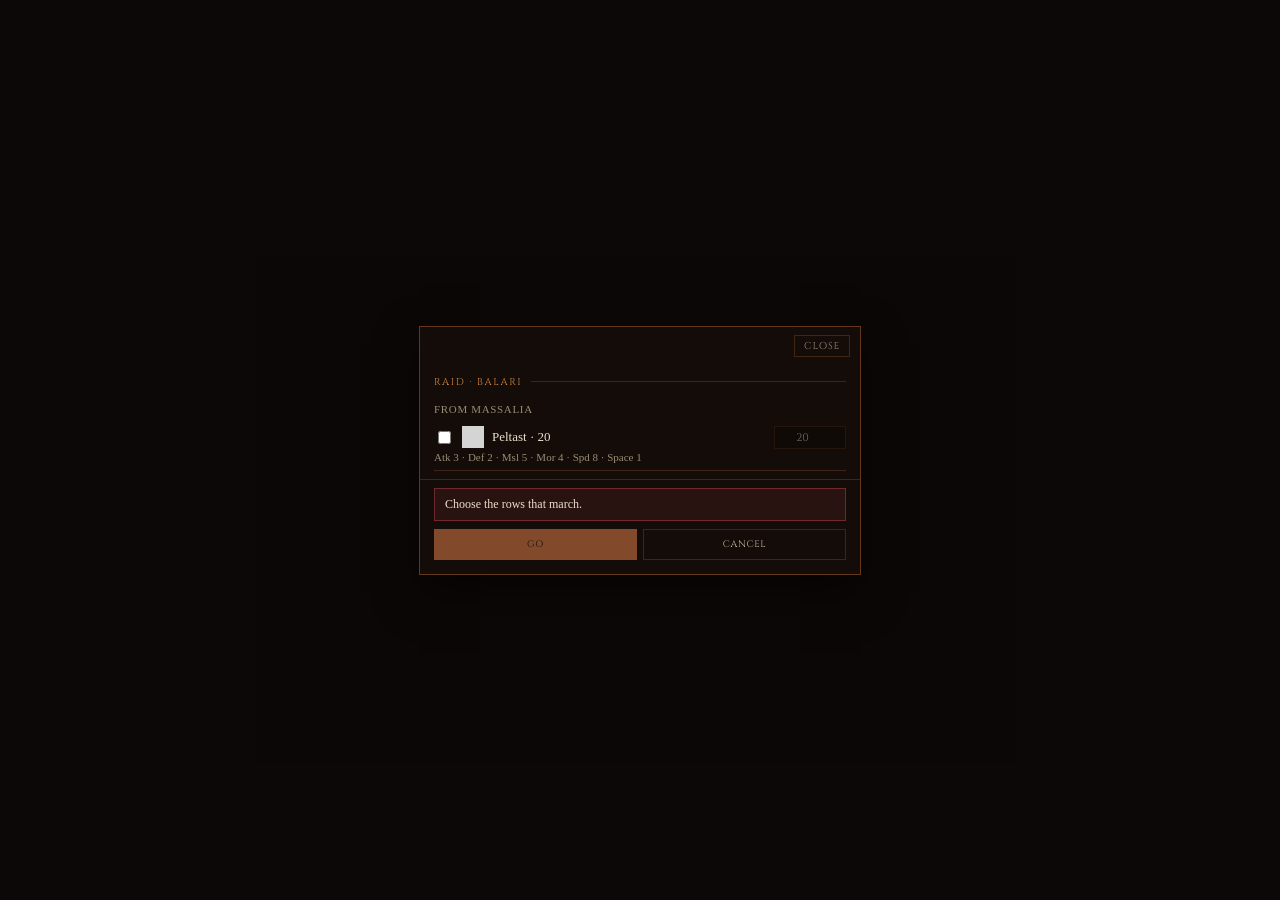
Test: action picker · sea route › a coastal base that reaches a sea target: the rows are tickable and the footer shows the sea route with the hulls
The image size is (1280, 900).
Click the checkbox named "Peltast, 20".
click(444, 437)  # box [438,430,451,444]
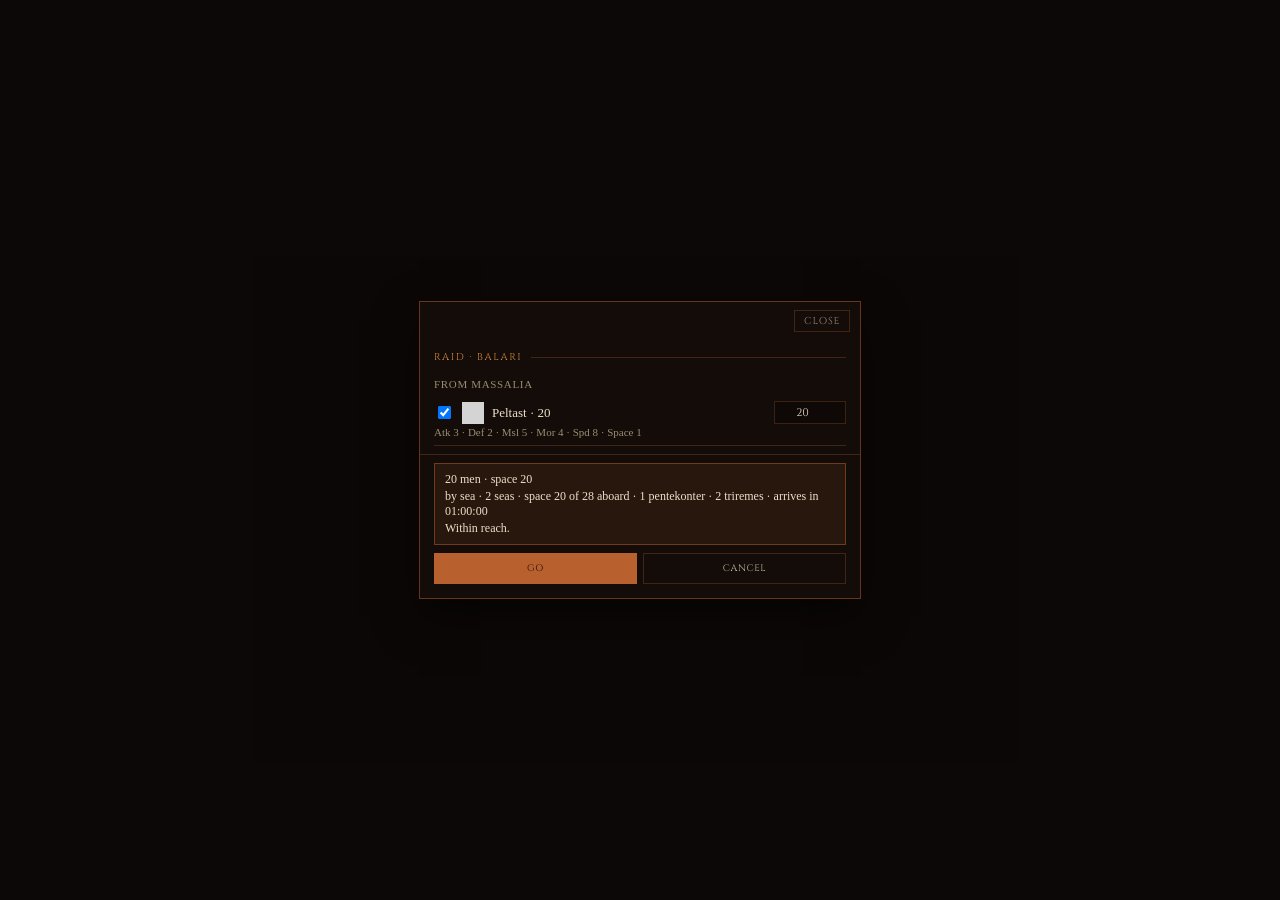
Replace the text in the number field with class "w2map-pick-count" with "1" at (810, 412), box [774,401,846,424]
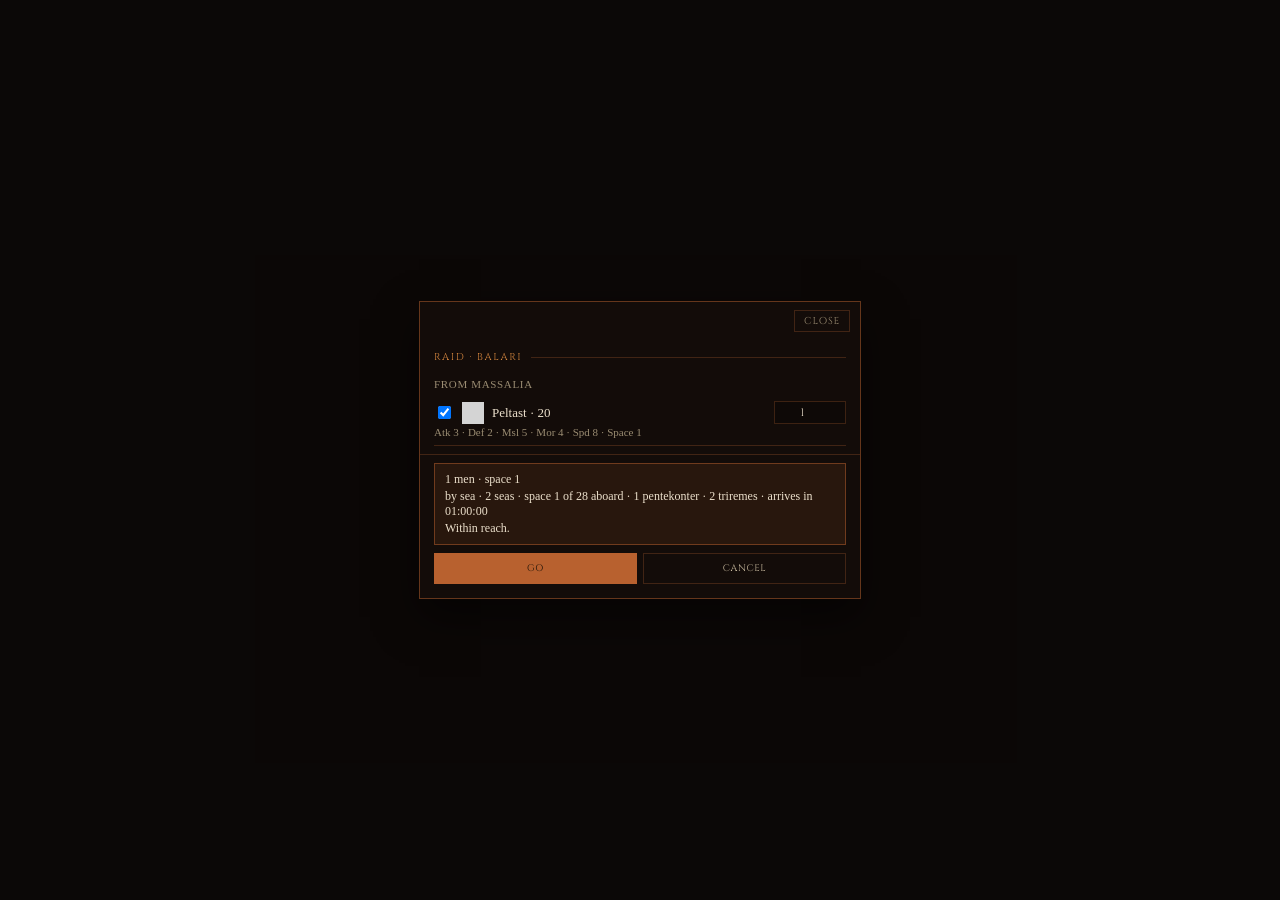
Expected: the element with class "w2map-verdict" shows "· arrives in 01:00:00", [445,489,812,518]
Expected: the element with class "w2map-verdict" shows "1 men · space 1", [434,463,846,545]
Expected: the element with class "w2map-verdict" shows "by sea · 2 seas · space 1 of 28 aboard · 1 pentekonter · 2 triremes", [445,489,758,503]
